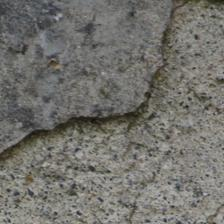Crack: (3, 106, 141, 160), (132, 2, 190, 115)
